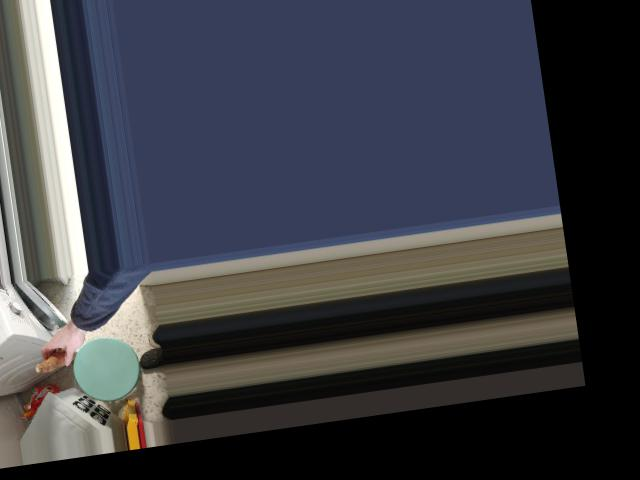sweet_potato: (32, 337, 88, 373)
